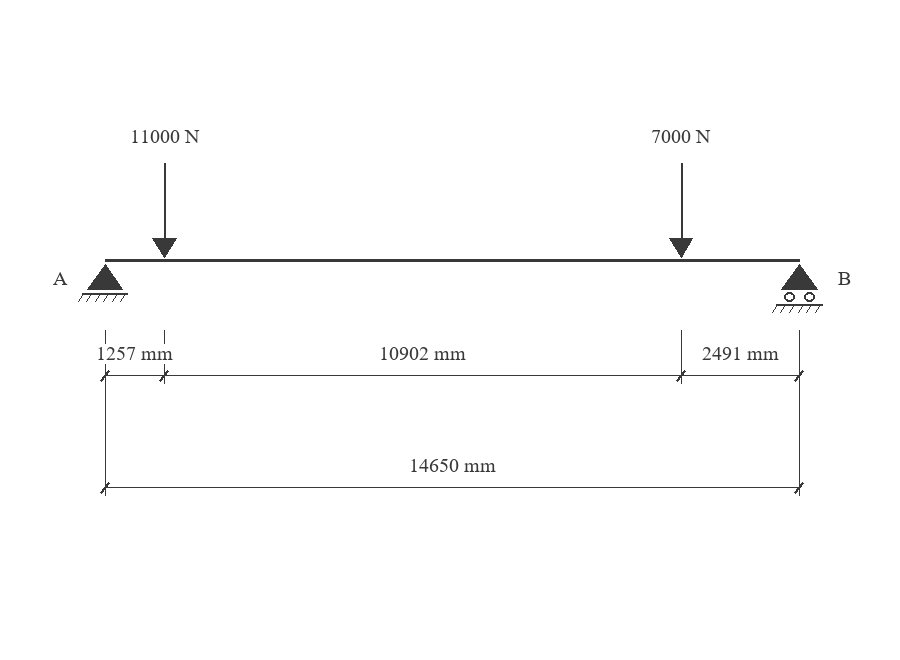pin_support: (78, 264, 128, 302)
point_load: (152, 163, 177, 258), (669, 163, 693, 258)
roller_support: (772, 264, 823, 313)
